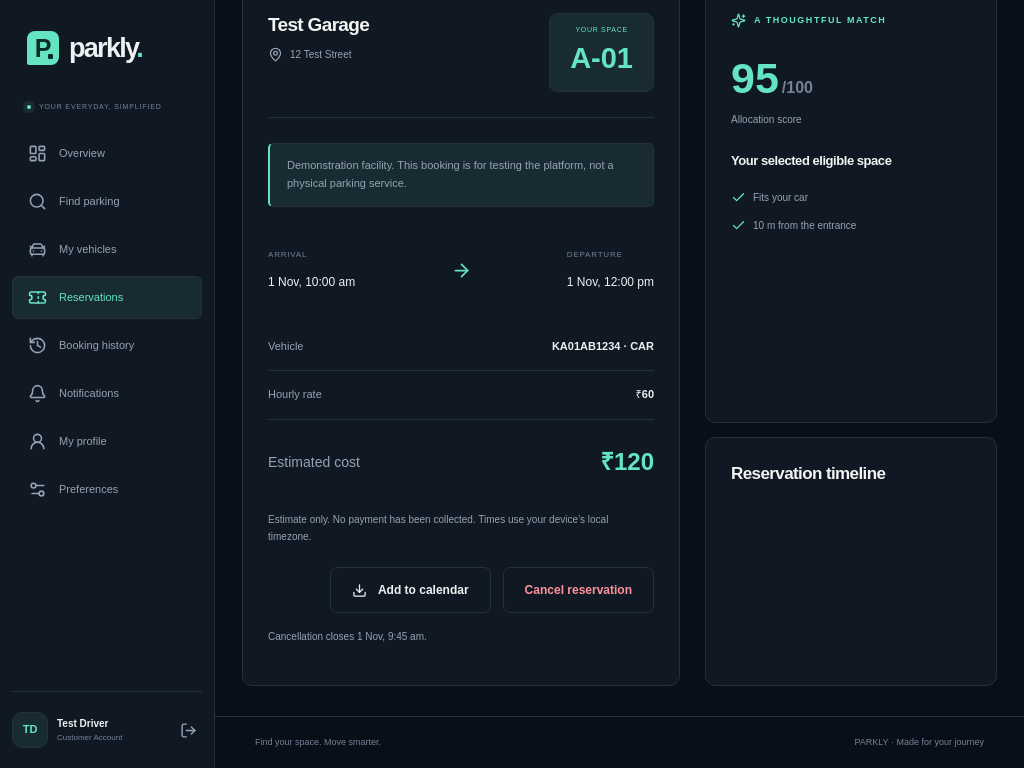
Test case: Parking workflows and failures › cancels a reservation after confirmation
(page scrolled)
Click the button "Cancel reservation": click(578, 590) 503,567 -> 654,613
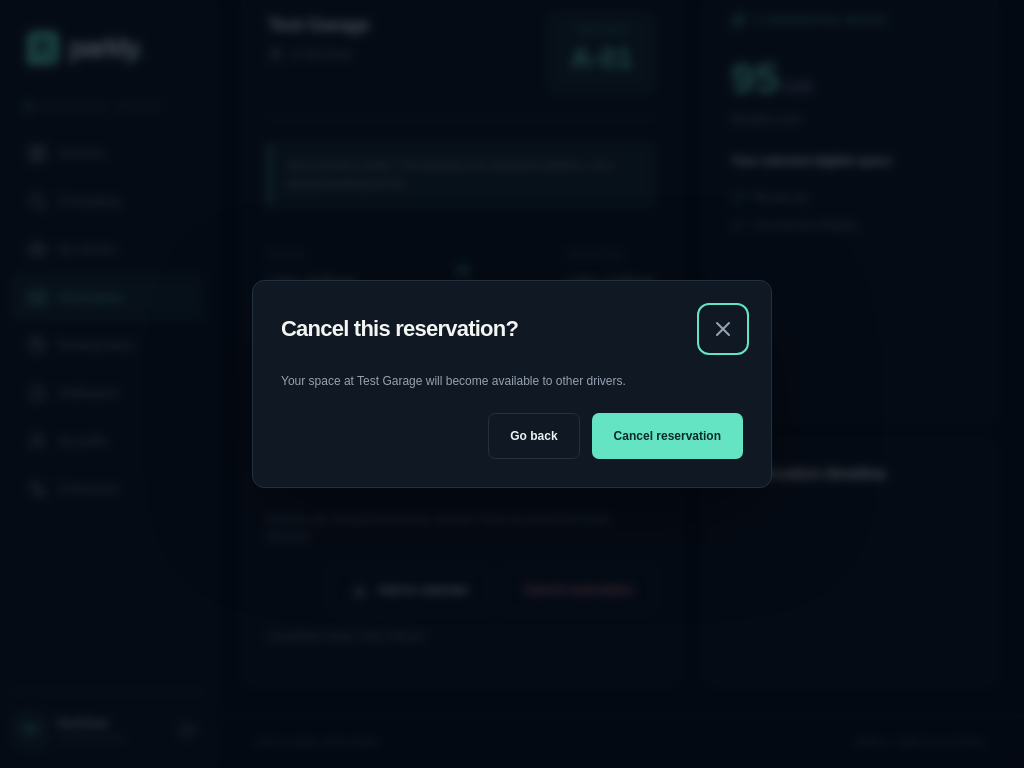
Click the button "Cancel reservation": click(667, 436) 592,413 -> 743,459
(page scrolled)
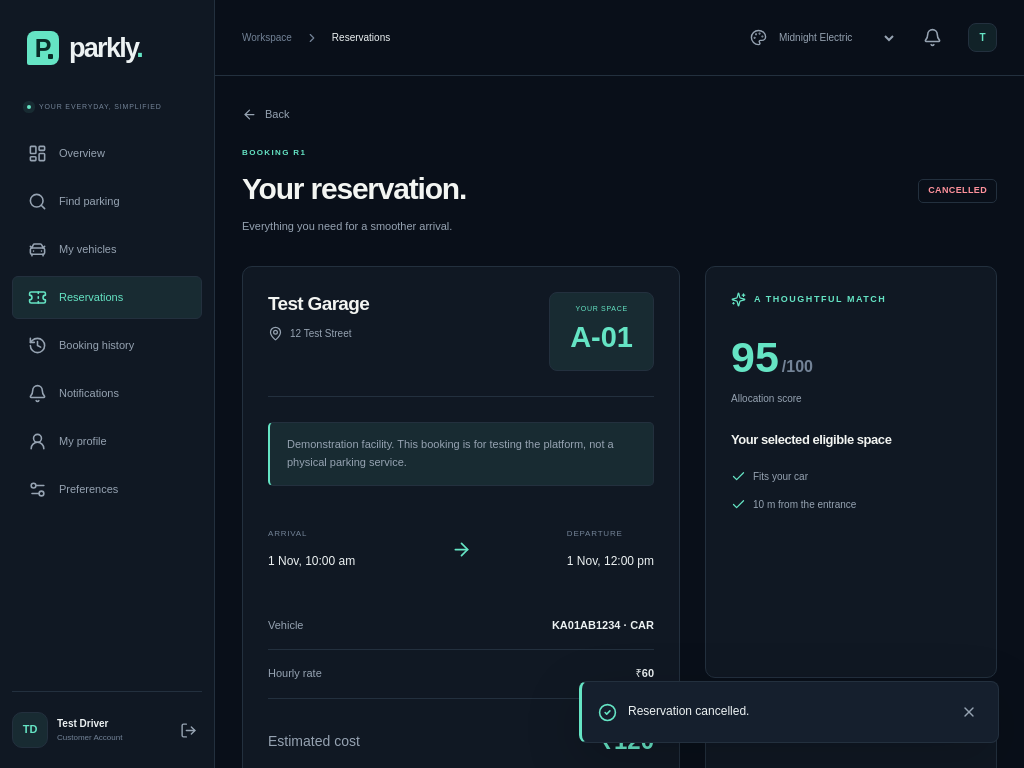
Expected: the button "Cancel reservation" is not shown
Now the text "CANCELLED" is shown, box 918,179 -> 997,203
